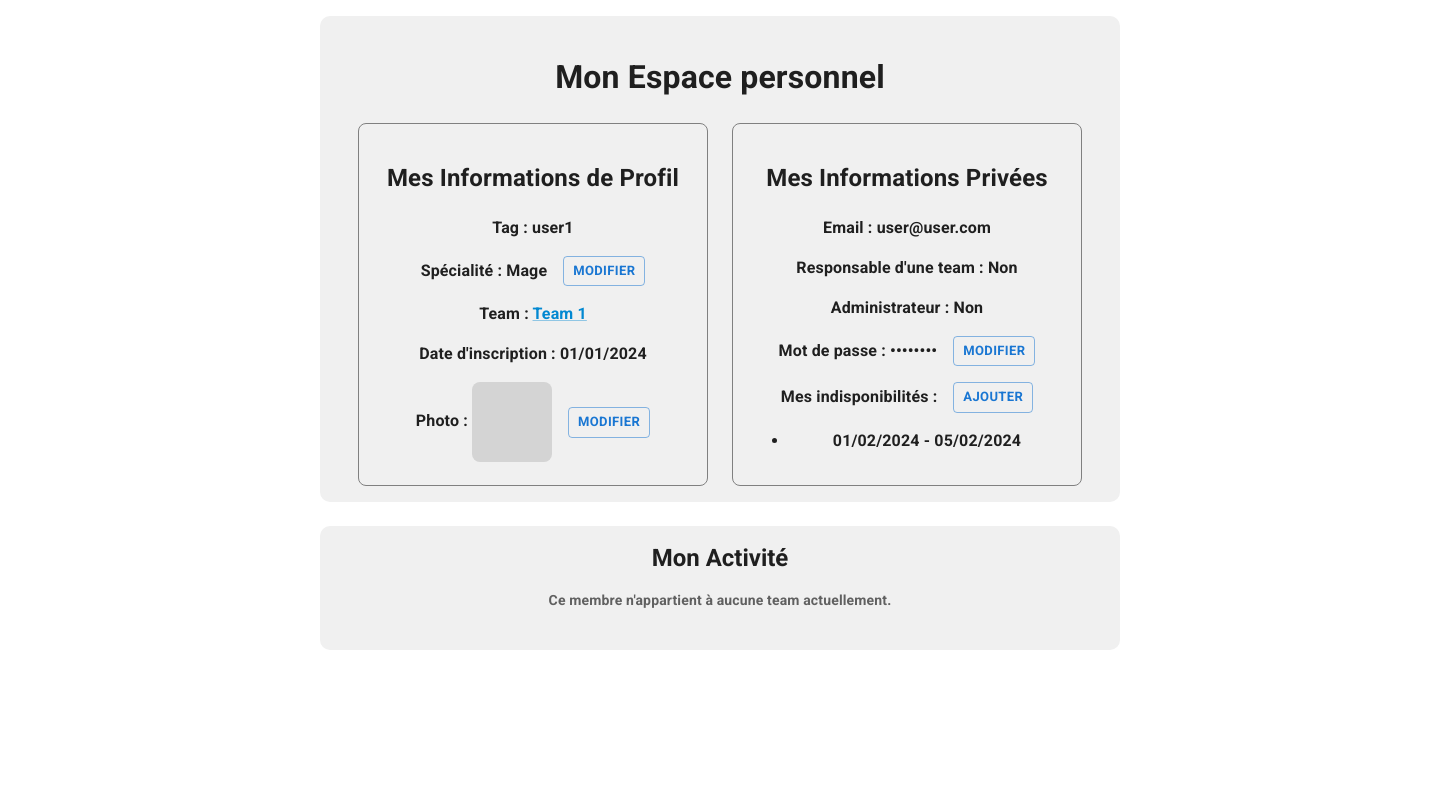
Scenario: ProfilePage › shows error when passwords do not match
Expected: the text "user@user.com" is shown, [877,218,991,237]
Click the button "Modifier" next to "Mot de passe :".
click(994, 351)  # box [953,336,1035,366]
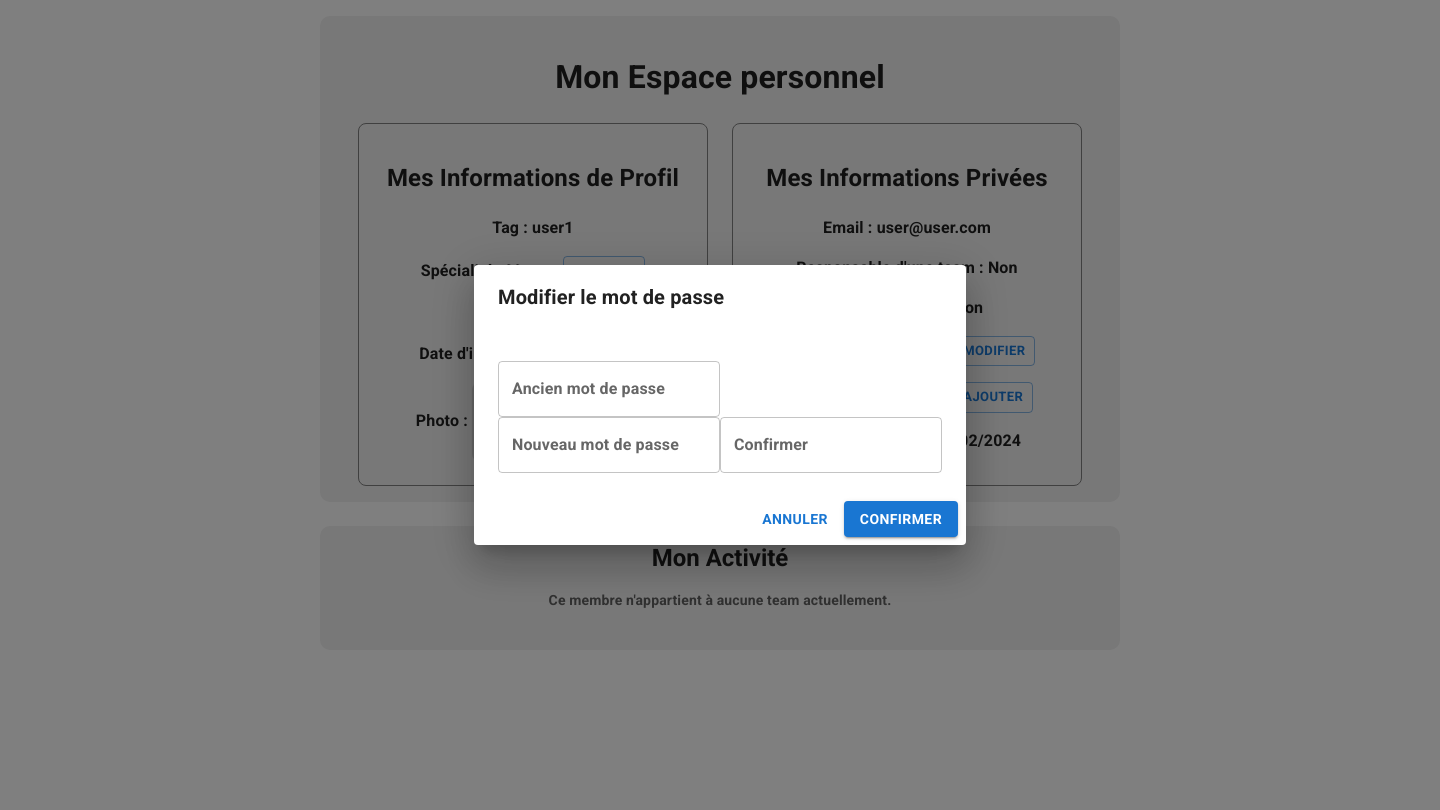
Now the password field labelled "Ancien mot de passe" is shown, box [498,361,720,417]
Type "abc123" into the password field labelled "Nouveau mot de passe".
click(609, 445); type("abc123")  # box [498,417,720,473]
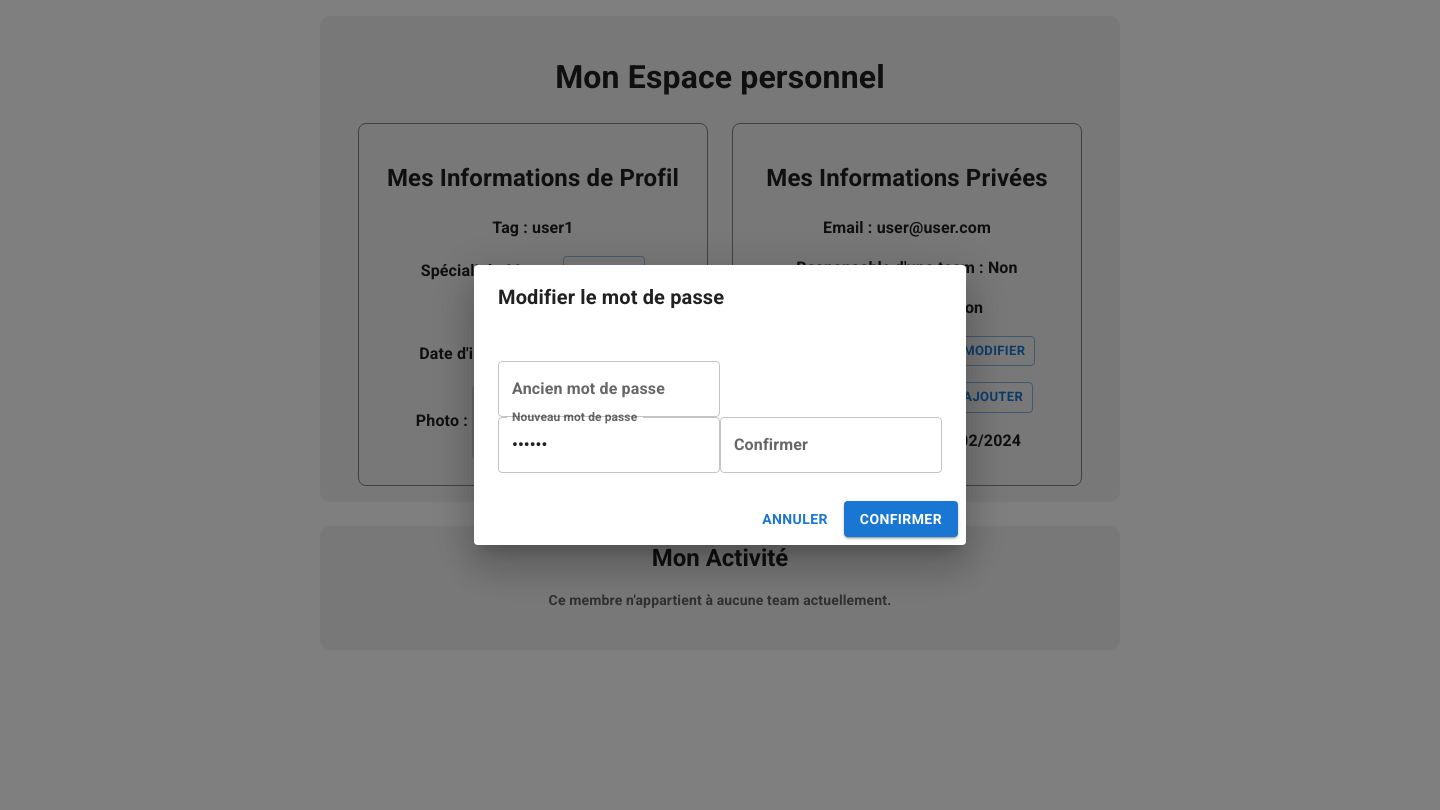
Type "different" into the password field labelled "Confirmer".
click(831, 445); type("different")  # box [720,417,942,473]
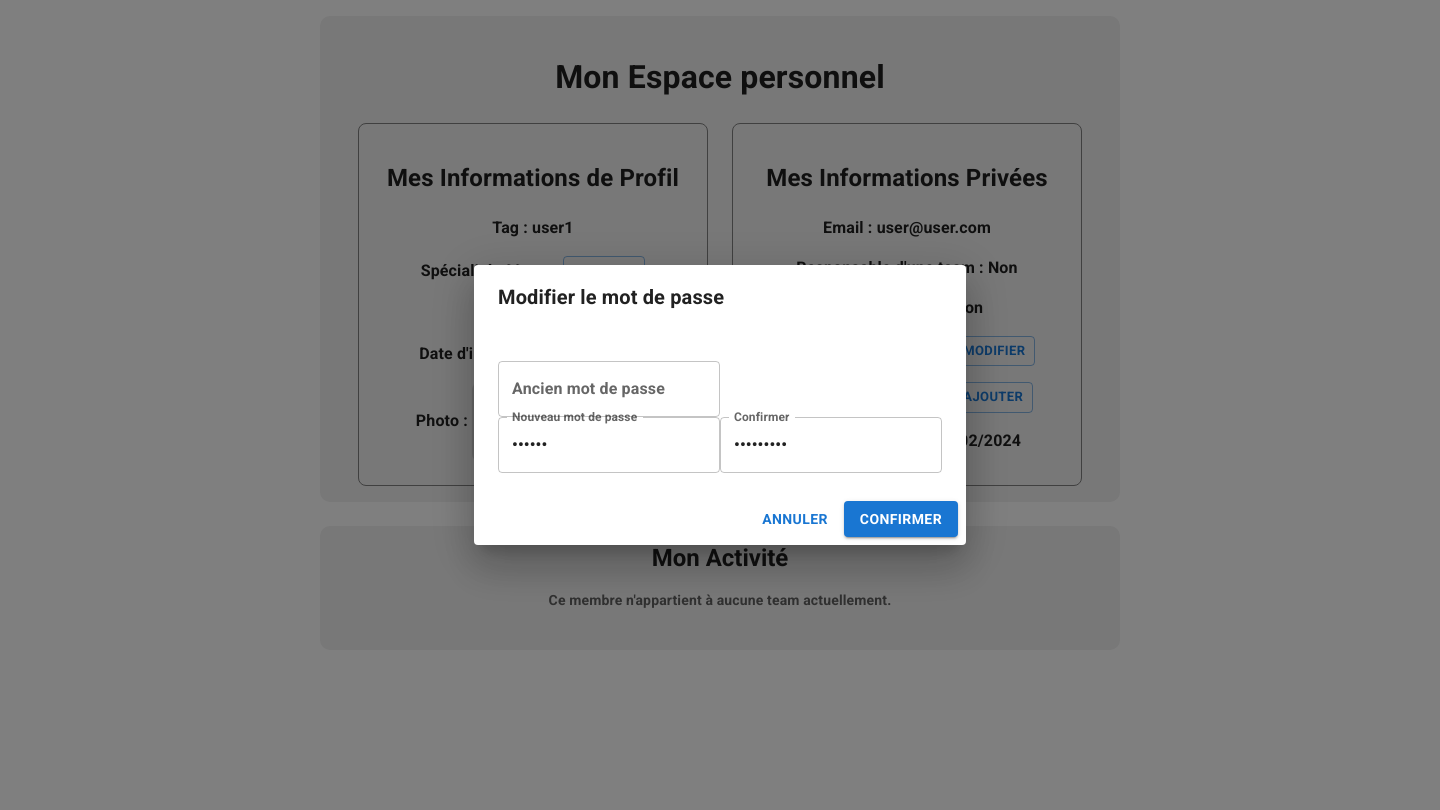
Click the button "Confirmer".
click(901, 519)  # box [844,501,958,537]
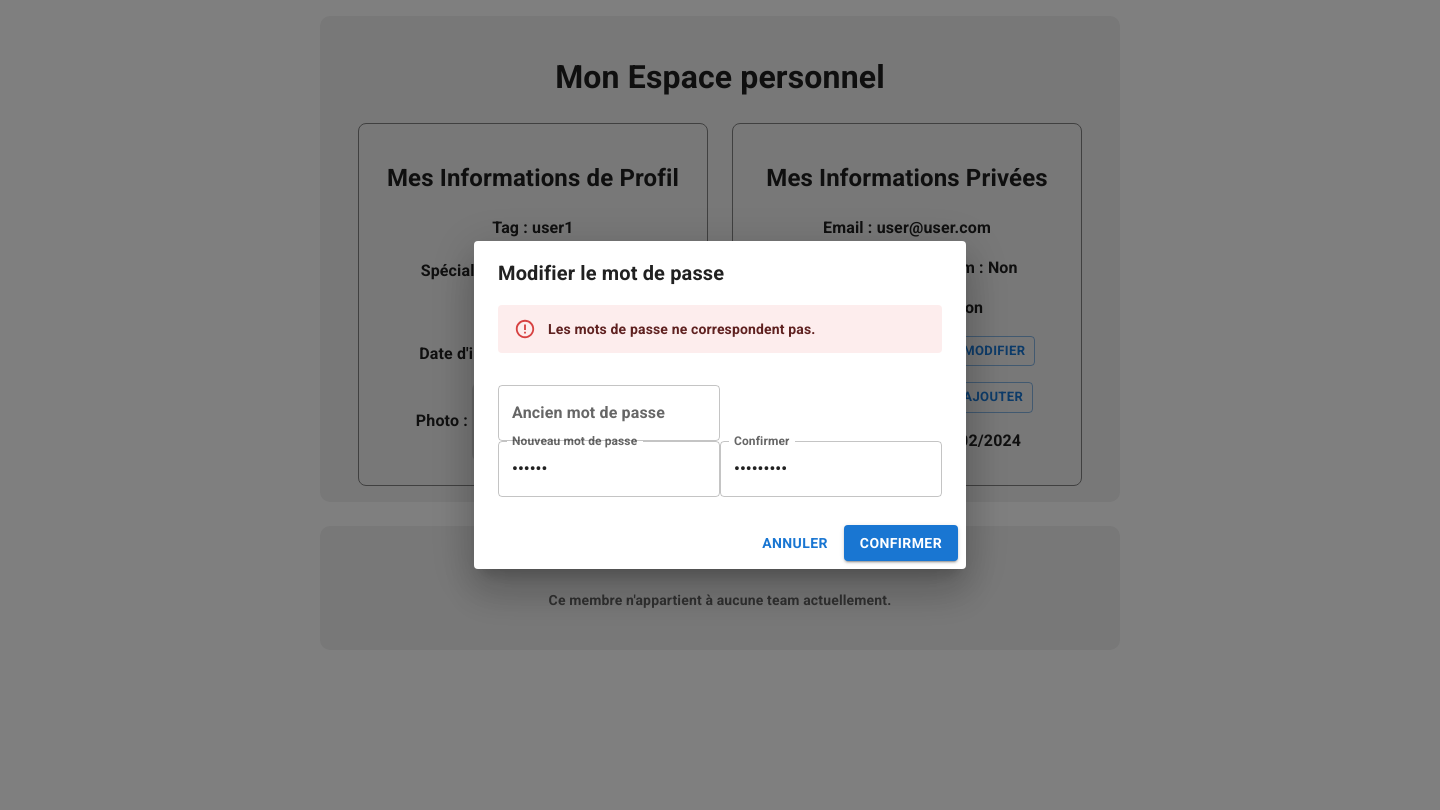
Now the text "Les mots de passe ne correspondent pas." is shown, box [548,321,816,337]
